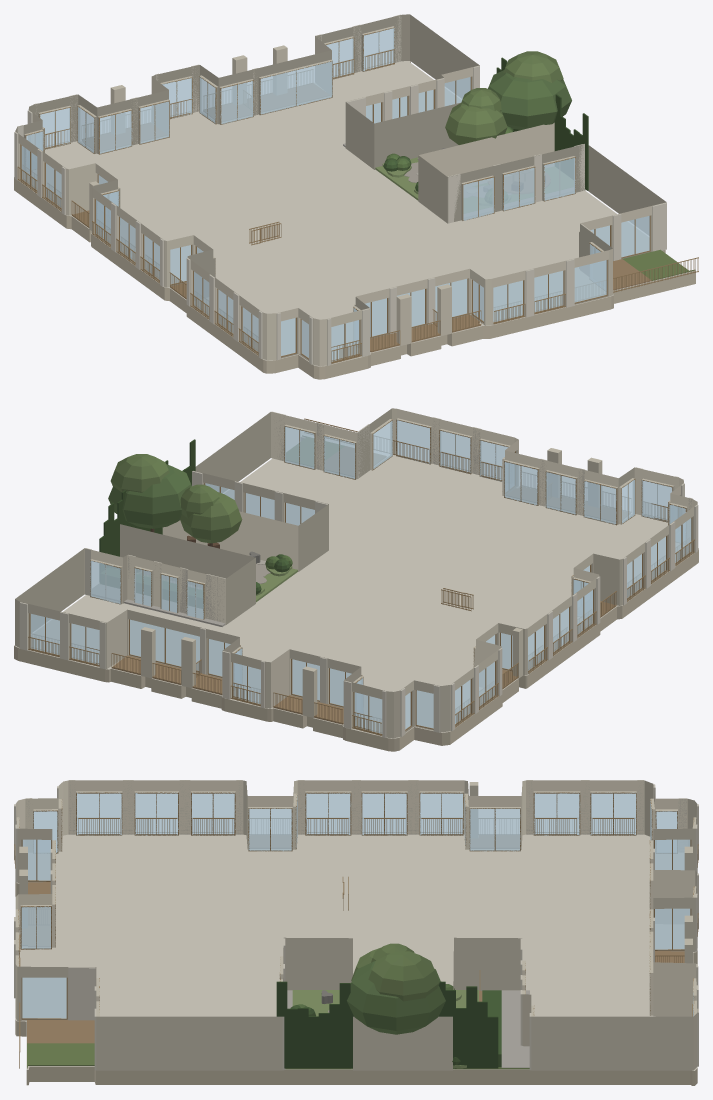
3 renders of one model, top to bottom at view 1: azimuth 30°, elevation 25°; view 2: azimuth 150°, elevation 25°; view 3: azimuth 270°, elevation 25°, orthographic. The views are drawn at different scales.
Bounding box in the file's own units: 34.12 × 8.1 × 39.
